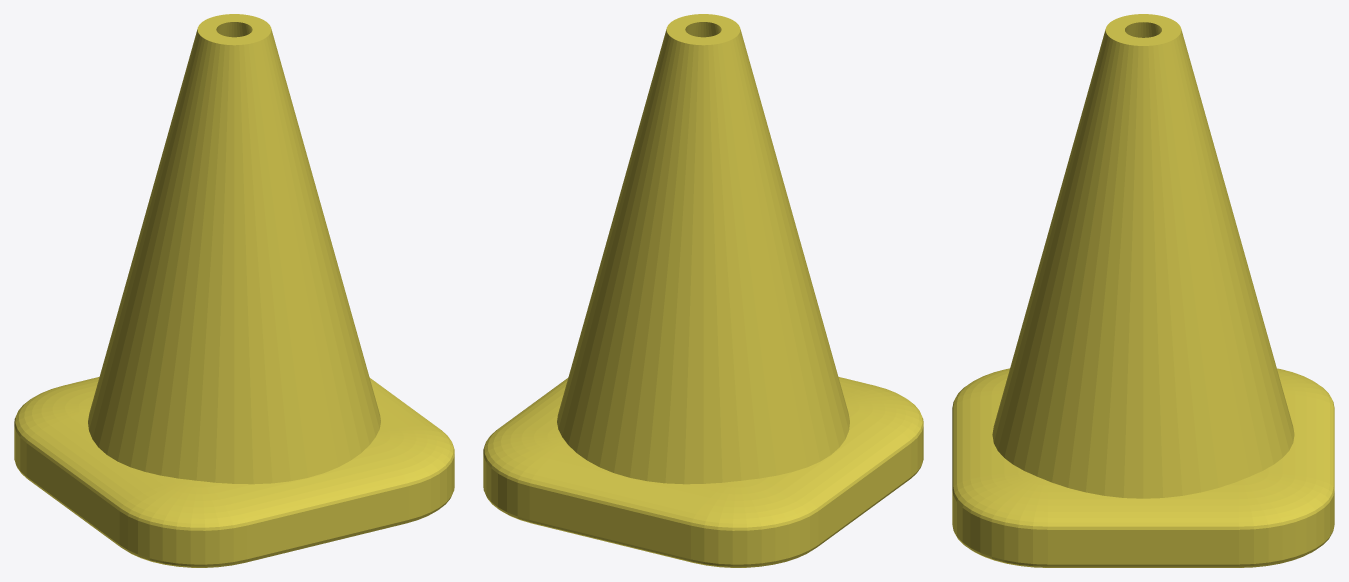
Rendered from cone-chargedup.glb.
3 renders of one model, left to right at view 1: azimuth 30°, elevation 25°; view 2: azimuth 150°, elevation 25°; view 3: azimuth 270°, elevation 25°, orthographic. The views are drawn at different scales.
Parts seen in each view (by area): view 1: Mesh_Mesh_head_geo.001_lambert2SG.001; view 2: Mesh_Mesh_head_geo.001_lambert2SG.001; view 3: Mesh_Mesh_head_geo.001_lambert2SG.001.
Part boxes in pixels (x1,y1,x2,y2): Mesh_Mesh_head_geo.001_lambert2SG.001: (14,14,454,567); Mesh_Mesh_head_geo.001_lambert2SG.001: (483,14,923,567); Mesh_Mesh_head_geo.001_lambert2SG.001: (952,14,1334,567).
Size of the model in its own units: 0.0147 by 0.02 by 0.0147.
